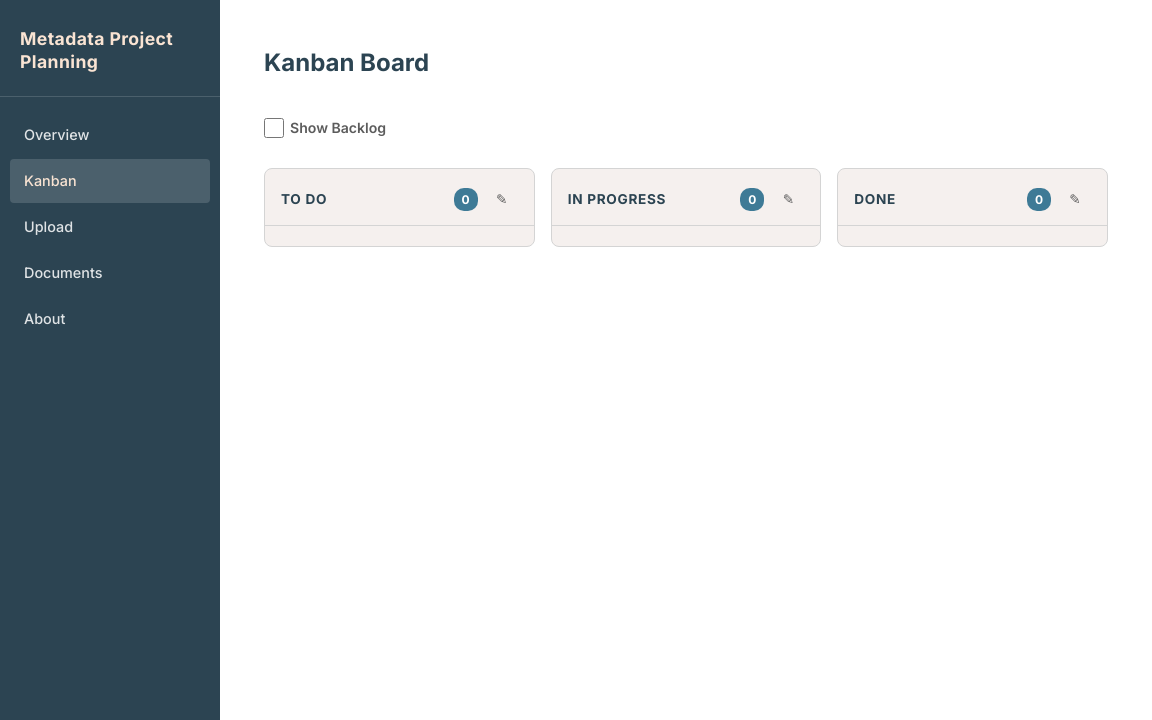
Test: Kanban Board › should rename a column
Click the button "✎" in the row of "To Do" at (502, 199), box [486,183,518,215]
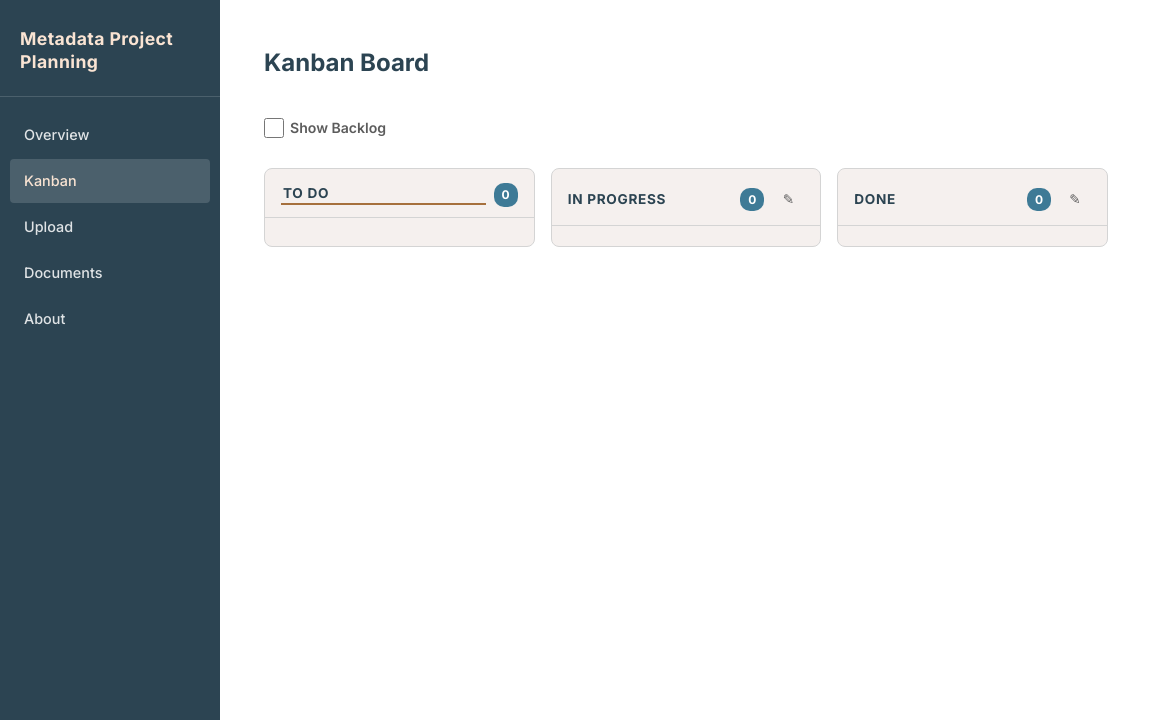
Replace the text in the field named "Edit column name" with "Ready" at (384, 195), box [281,185,486,205]
Then press Enter
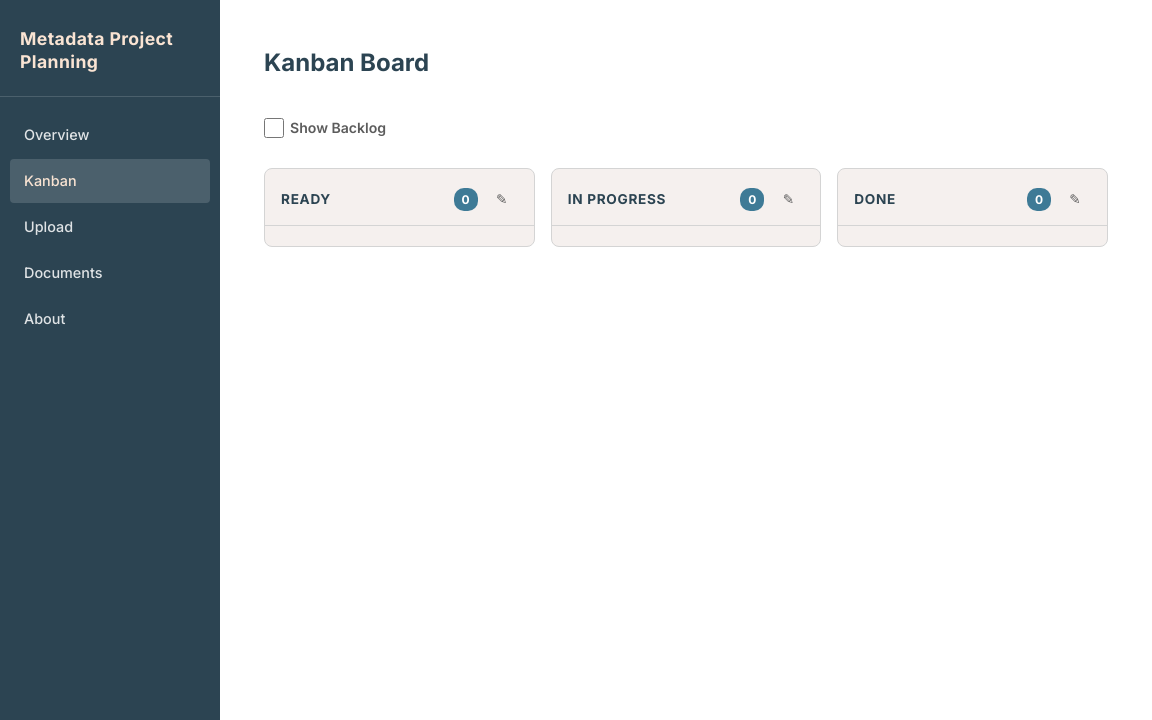
Result: the heading "Ready" is shown at [281,190,331,206]
